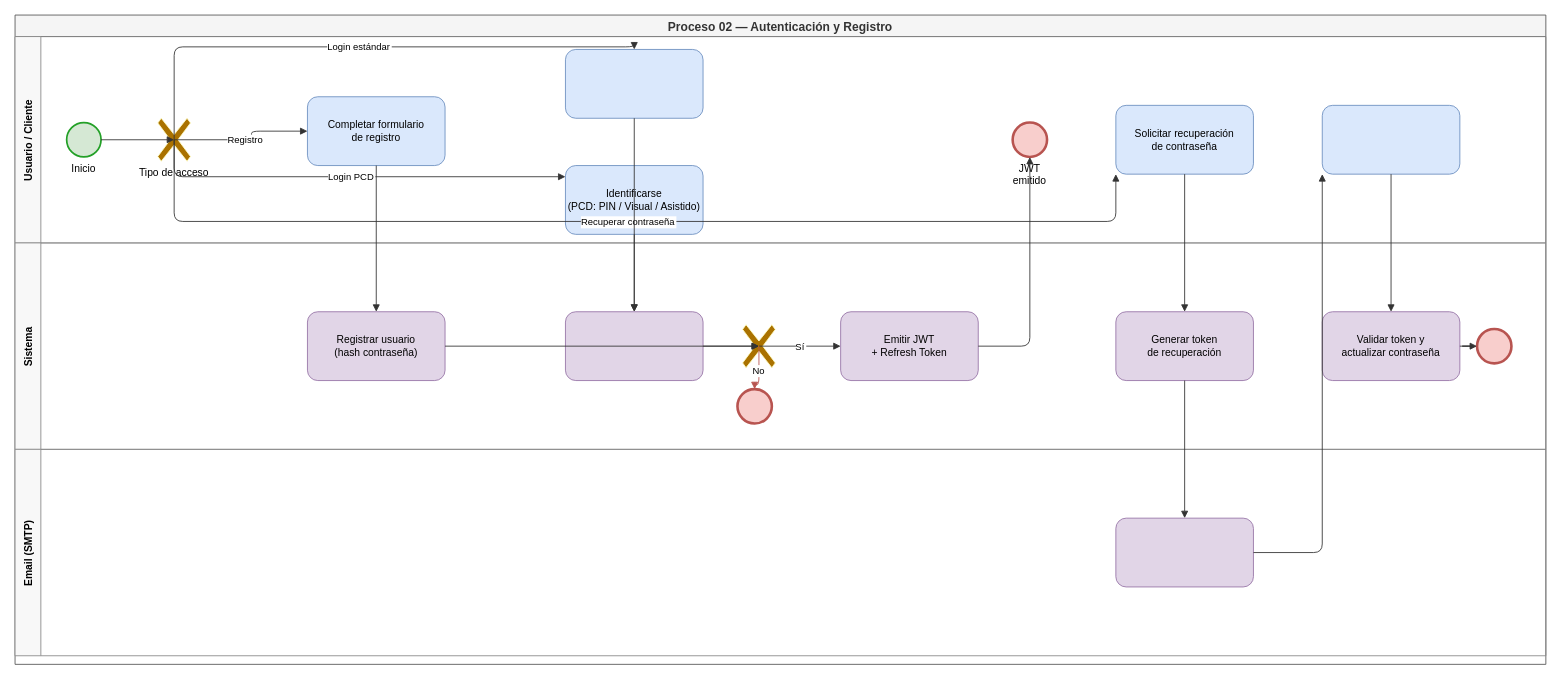
Some shapes in this 1561 by 679 pixel diagram are drawn without their labels. The shapes that lost their labels are listed below. From the top down, each one's centre as x and y in pixels, then its label:
point (634, 83): Ingresar credenciales (email + contraseña)
point (1390, 139): Ingresar nueva contraseña (token email)
point (634, 346): Validar credenciales / método de login
point (758, 346): ¿Válido?
point (1493, 345): Contraseña actualizada
point (754, 405): Error 401 Acceso denegado
point (1184, 552): Enviar email con link de recuperación (MailKit)
